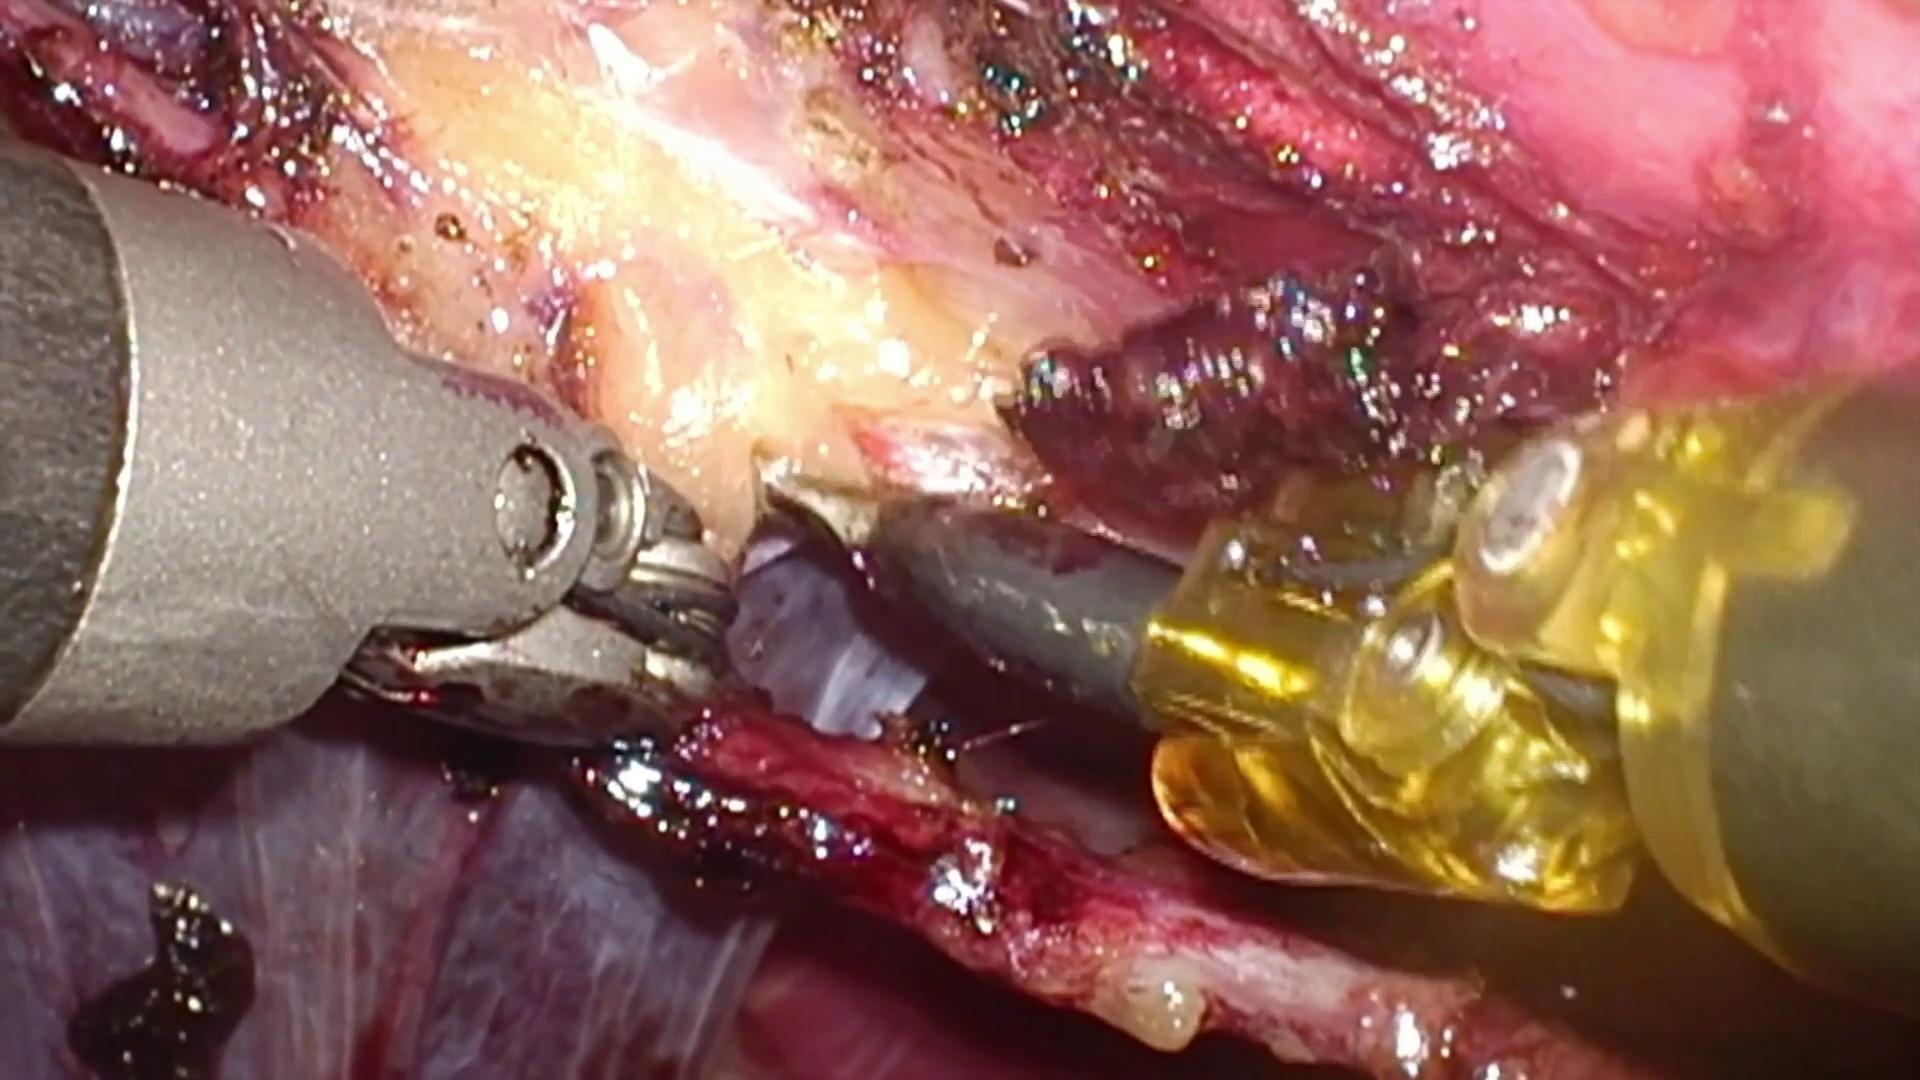Cautery_Spatula: (760, 455, 1179, 733)
Debakey: (655, 633, 758, 729)
